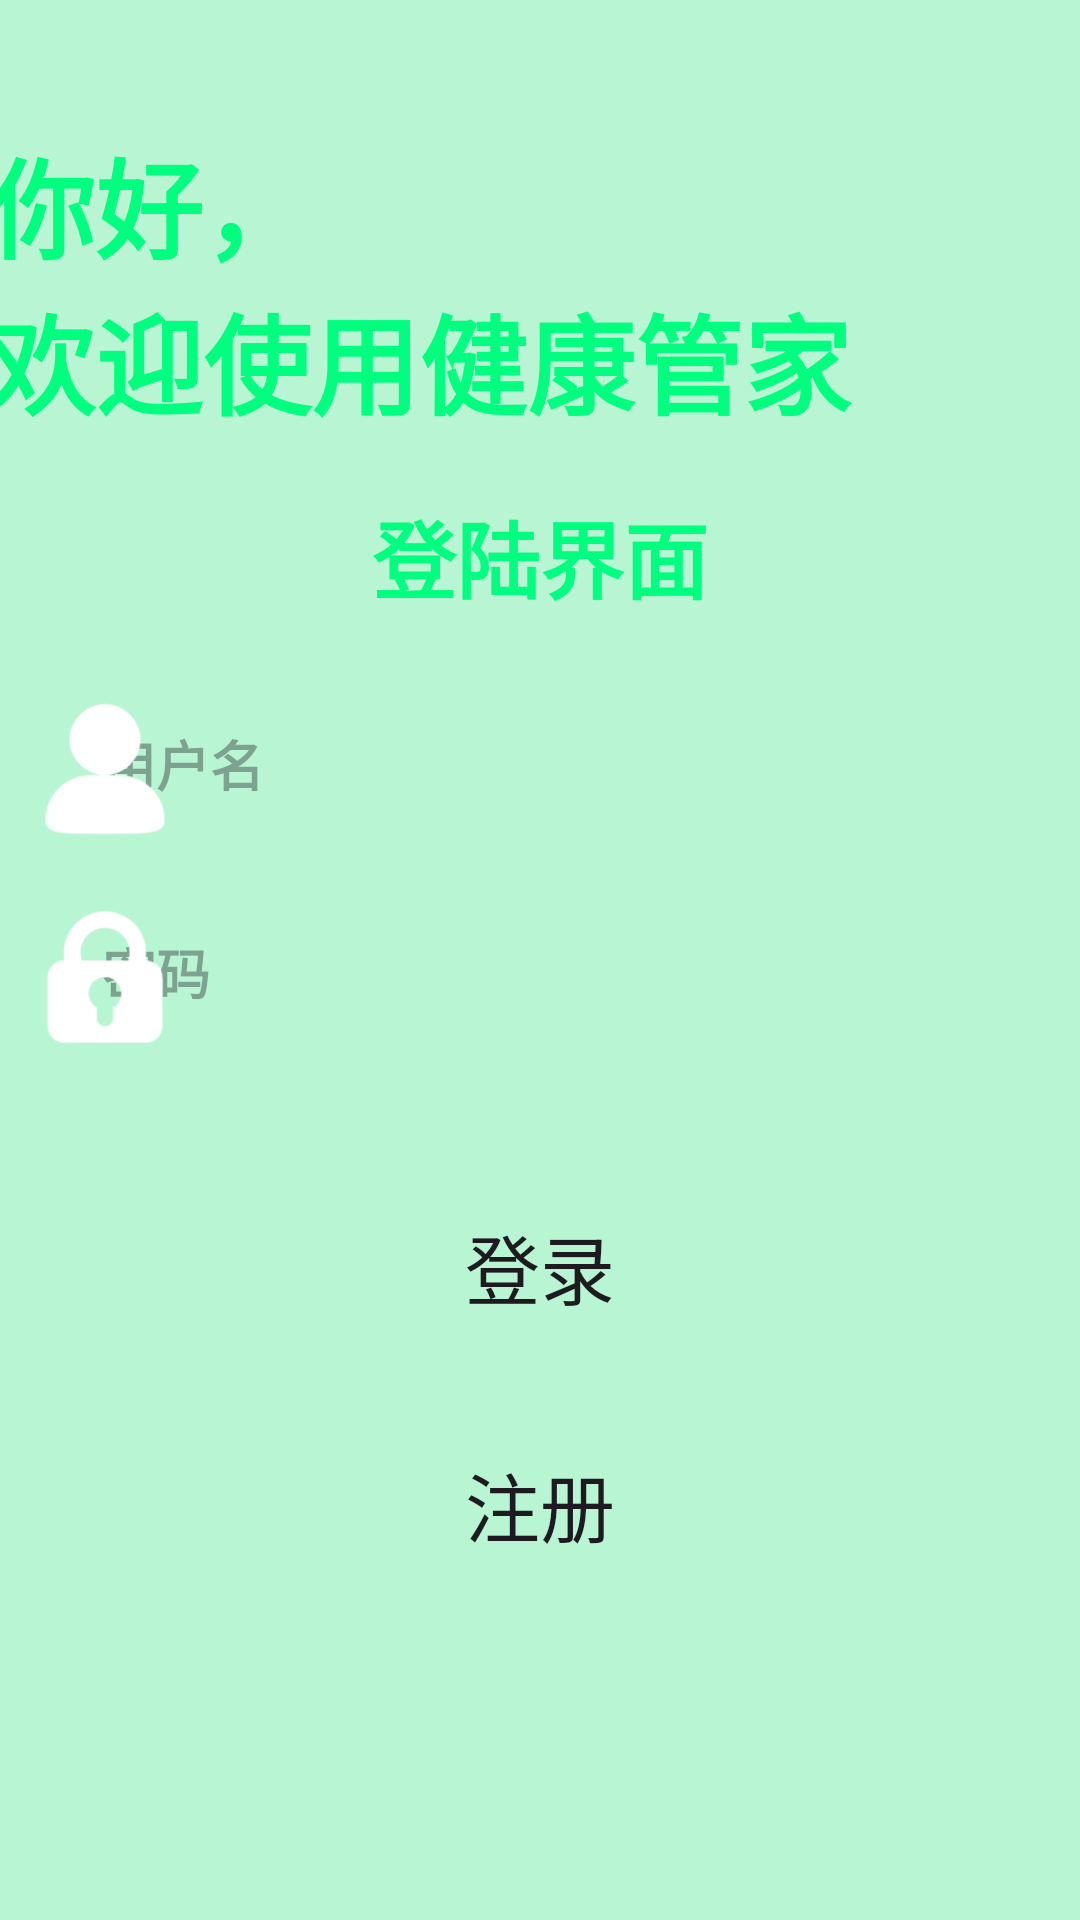

Screen size 1080 x 1920. Icon name, then its box in pixels as detection(x1, y1, x2, y2):
person: detection(45, 704, 165, 834)
